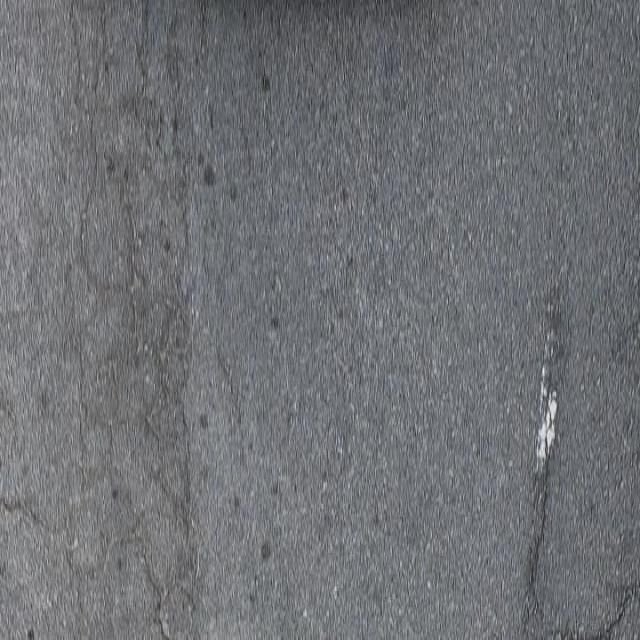cracks: (24, 8, 214, 640)
potholes: (509, 285, 585, 576)
